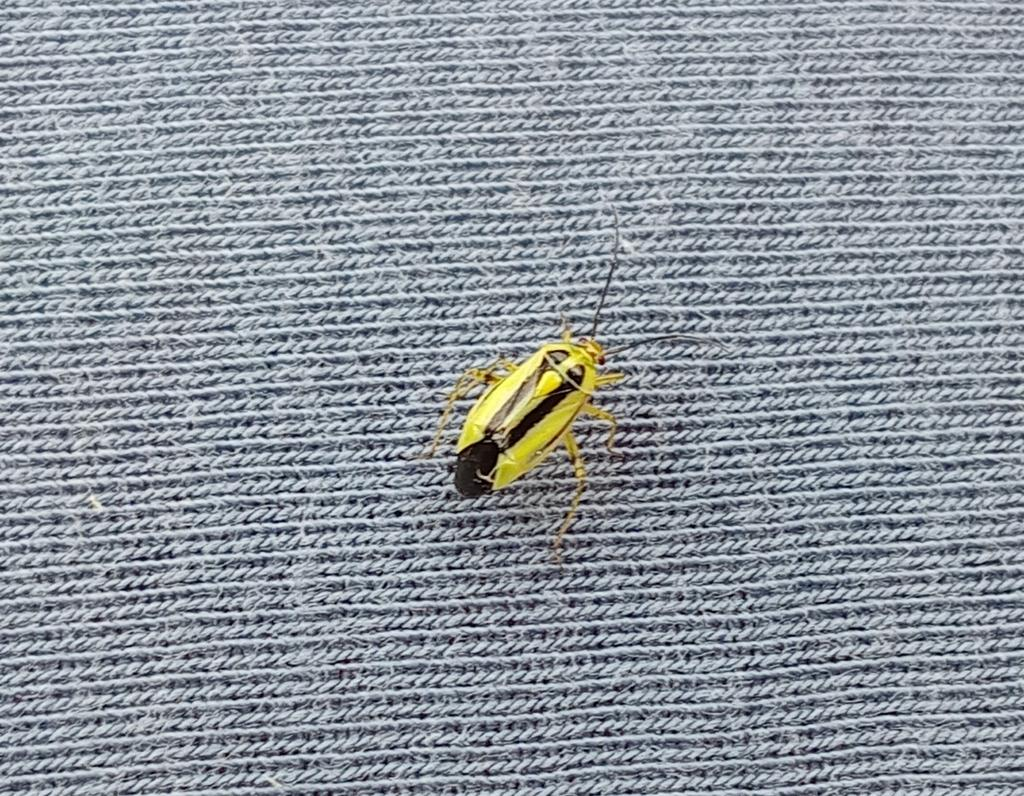plant_bugs: (397, 200, 736, 559)
